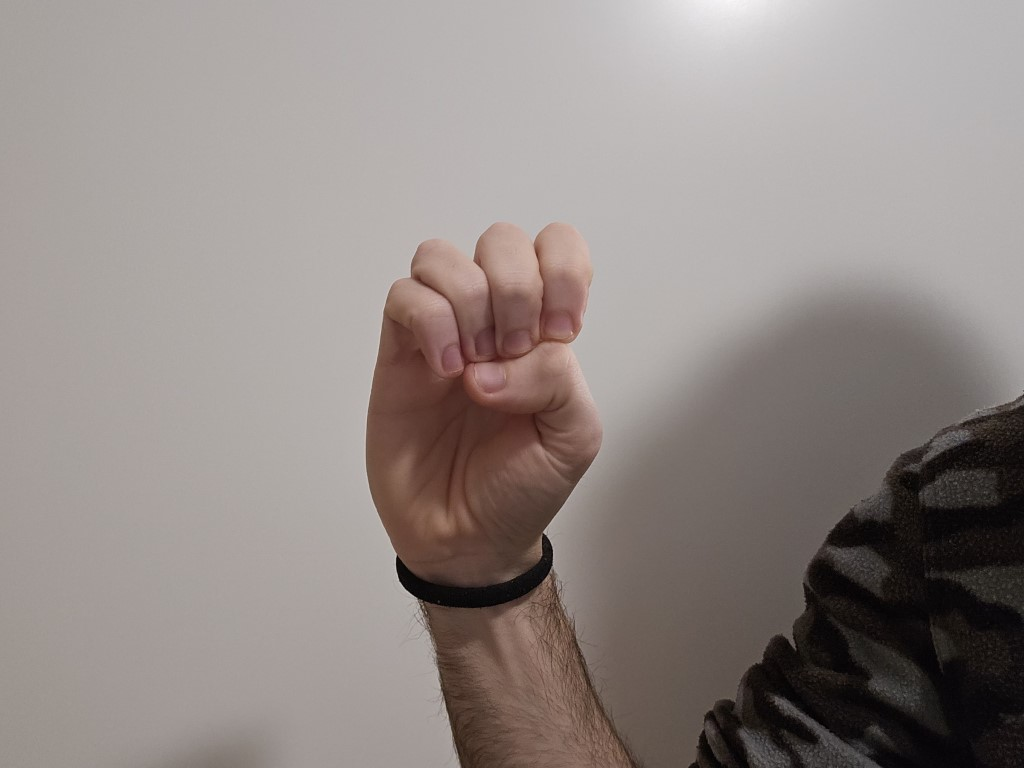e: (336, 207, 624, 590)
